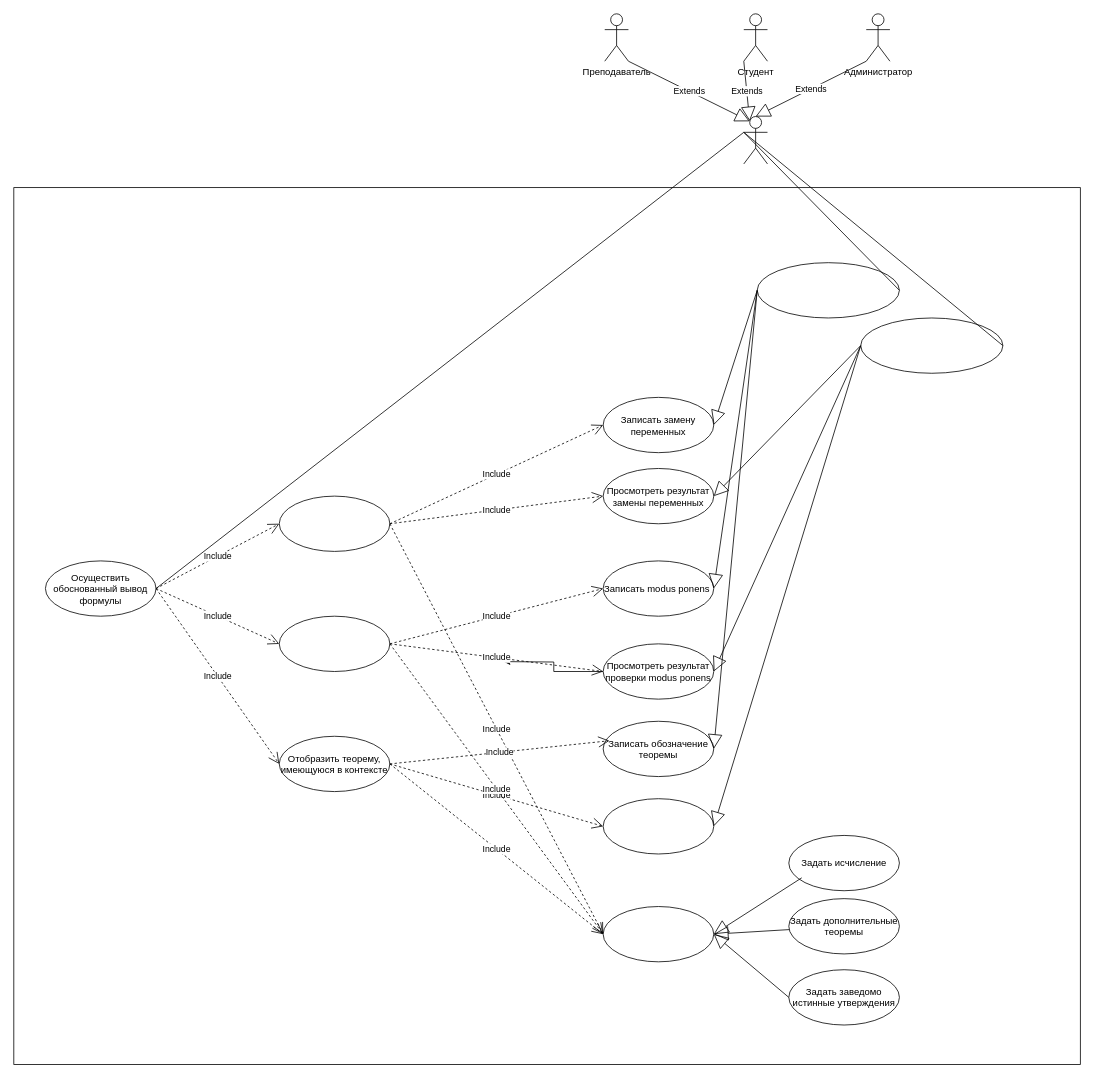
Some shapes in this 1094 by 1078 pixel diagram are drawn without their labels. The shapes that lost their labels are listed below. From the top down, each one's centre as x and y in pixels, then its label:
At point (755, 140): "Пользователь".
At point (827, 290): "Записать выражение в поле для записи обоснования".
At point (931, 345): "Просмотреть выражение в поле обоснованного вывода".
At point (334, 523): "Осуществить замену переменных".
At point (334, 643): "Проверить корректность и исполнить modus ponens".
At point (658, 826): "Просмотреть теорему".
At point (658, 934): "Задать контекст ввода".
